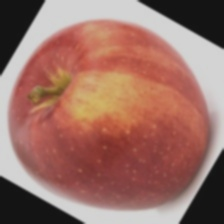apple: (29, 36, 216, 197)
